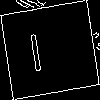I: (24, 24, 45, 72)
